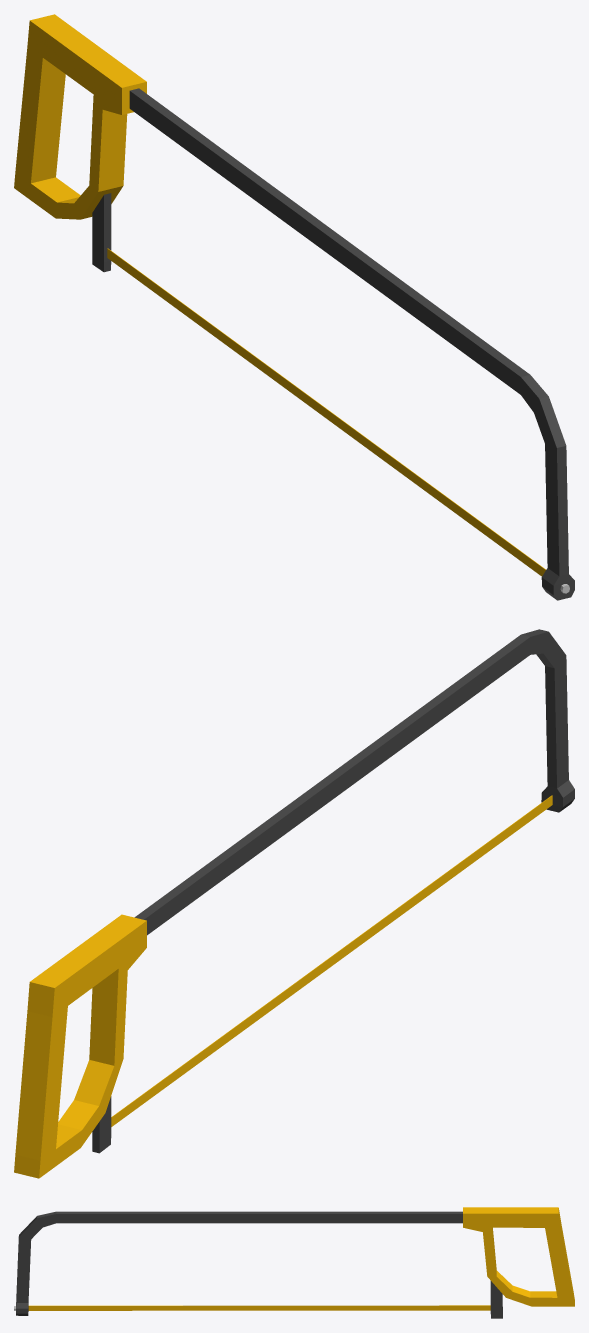
Rendered from SerraDeArco_A01.fbx.
3 views of the same model, one above another, from view 1: azimuth 30°, elevation 25°; view 2: azimuth 150°, elevation 25°; view 3: azimuth 270°, elevation 25° (orthographic). The views are drawn at different scales.
Parts seen in each view (by area): view 1: Cube; view 2: Cube; view 3: Cube.
Boxes of the visible parts, x1=… form: Cube: x1=14, y1=14, x2=574, y2=600; Cube: x1=14, y1=629, x2=574, y2=1178; Cube: x1=14, y1=1207, x2=574, y2=1318.
Size of the model in its own units: 1.5 by 11.79 by 55.79.
